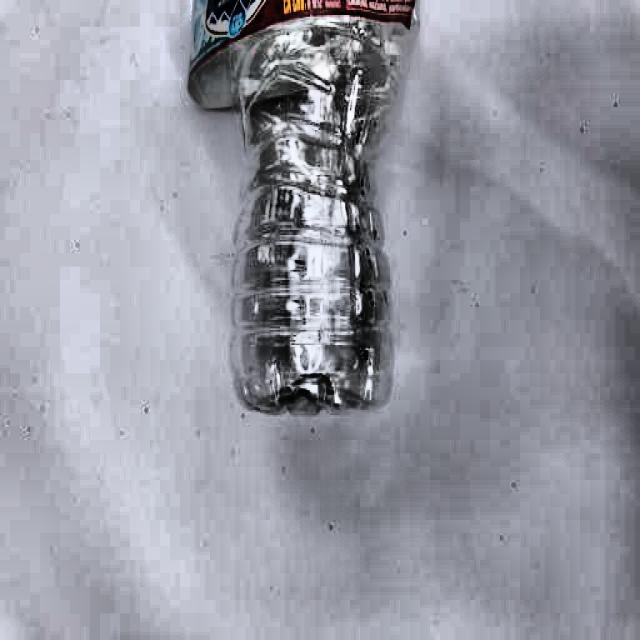plastic: (188, 0, 412, 412)
